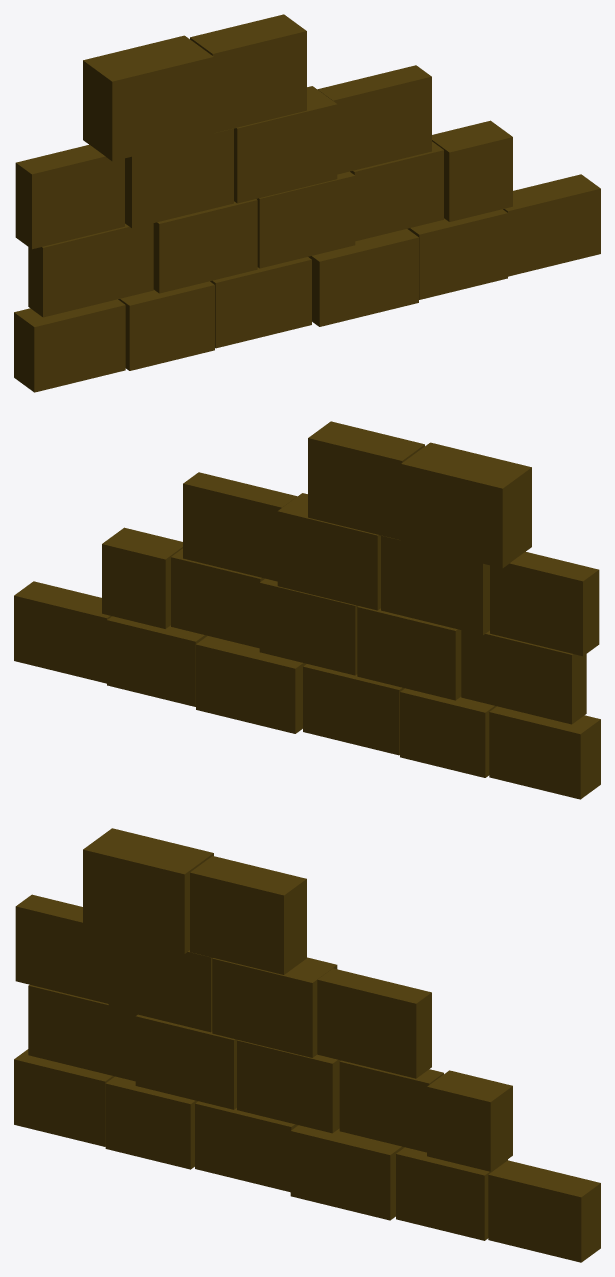
The model's file is RandWall2.fbx.
3 views of the same model, one above another, from view 1: azimuth 30°, elevation 25°; view 2: azimuth 150°, elevation 25°; view 3: azimuth 330°, elevation 25° (orthographic).
Visible parts, largest first — view 1: Wall; view 2: Wall; view 3: Wall.
Part boxes in pixels (x1,y1,x2,y2): Wall: [14, 14, 600, 392]; Wall: [14, 421, 600, 799]; Wall: [14, 828, 600, 1262].
Bounding box in the file's own units: 2981 × 1487 × 266.
